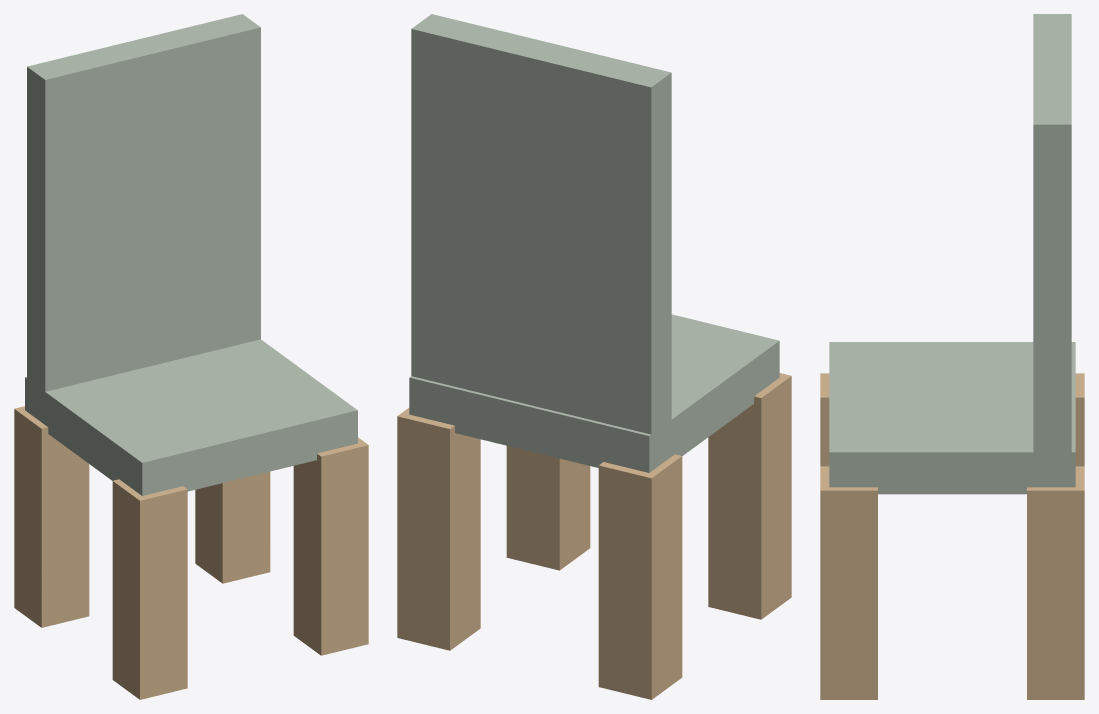
The model's file is kids_chair.glb.
The picture shows the model from 3 angles, left to right: view 1: azimuth 30°, elevation 25°; view 2: azimuth 150°, elevation 25°; view 3: azimuth 270°, elevation 25°; orthographic projection. The views are drawn at different scales.
Parts seen in each view (by area): view 1: kids_chair_sage_1, kids_chair_sage_0, kids_chair_oak_3, kids_chair_oak_5, kids_chair_oak_2, kids_chair_oak_4; view 2: kids_chair_sage_1, kids_chair_sage_0, kids_chair_oak_2, kids_chair_oak_4, kids_chair_oak_3, kids_chair_oak_5; view 3: kids_chair_sage_0, kids_chair_sage_1, kids_chair_oak_4, kids_chair_oak_5, kids_chair_oak_2, kids_chair_oak_3.
Boxes of the visible parts, x1=… form: kids_chair_sage_1: x1=27, y1=14, x2=260, y2=405; kids_chair_sage_0: x1=25, y1=339, x2=357, y2=495; kids_chair_oak_3: x1=112, y1=479, x2=187, y2=699; kids_chair_oak_5: x1=293, y1=437, x2=368, y2=655; kids_chair_oak_2: x1=14, y1=406, x2=89, y2=627; kids_chair_oak_4: x1=195, y1=471, x2=270, y2=583; kids_chair_sage_1: x1=411, y1=14, x2=671, y2=434; kids_chair_sage_0: x1=409, y1=314, x2=779, y2=472; kids_chair_oak_2: x1=598, y1=454, x2=682, y2=699; kids_chair_oak_4: x1=397, y1=408, x2=480, y2=650; kids_chair_oak_3: x1=708, y1=373, x2=791, y2=619; kids_chair_oak_5: x1=506, y1=446, x2=590, y2=570; kids_chair_sage_0: x1=829, y1=342, x2=1075, y2=494; kids_chair_sage_1: x1=1033, y1=14, x2=1071, y2=473; kids_chair_oak_4: x1=1027, y1=466, x2=1084, y2=699; kids_chair_oak_5: x1=820, y1=466, x2=877, y2=699; kids_chair_oak_2: x1=1075, y1=373, x2=1084, y2=466; kids_chair_oak_3: x1=820, y1=373, x2=829, y2=466.
Bounding box in the file's own units: 0.3606 × 0.82 × 0.3438.
